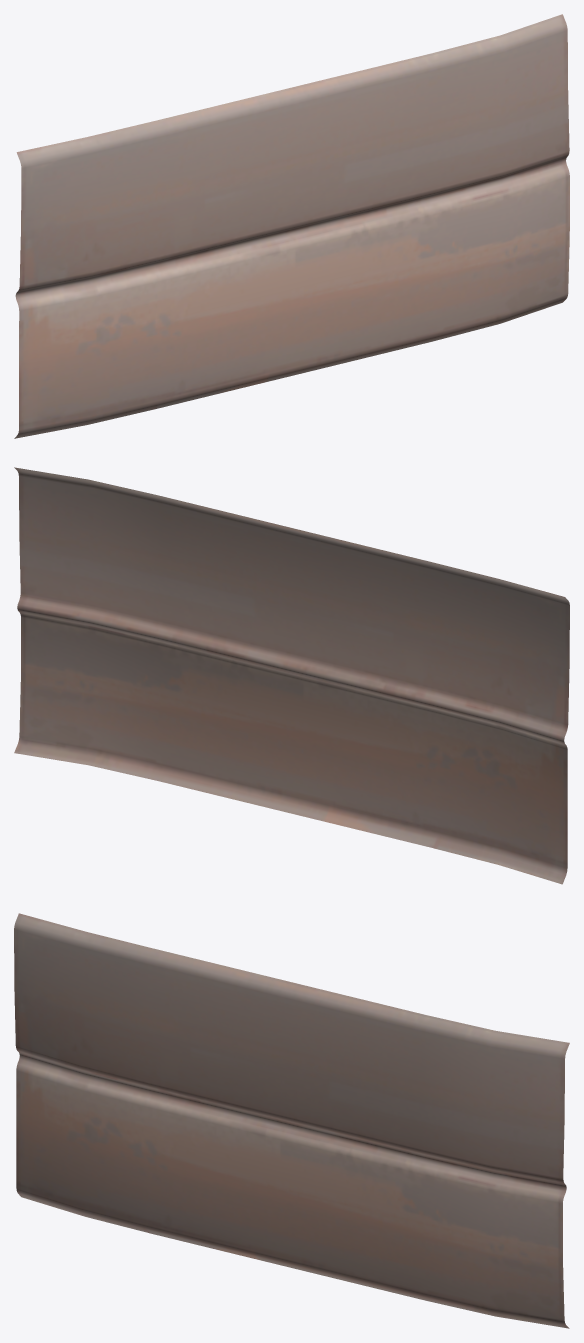
File: props_2fort_roof_metal002.glb
3 renders of one model, top to bottom at view 1: azimuth 30°, elevation 25°; view 2: azimuth 150°, elevation 25°; view 3: azimuth 330°, elevation 25°, orthographic.
Visible parts, largest first — view 1: models/props_2fort/roof_metal002; view 2: models/props_2fort/roof_metal002; view 3: models/props_2fort/roof_metal002.
Part boxes in pixels (x1=…): models/props_2fort/roof_metal002: x1=14, y1=14, x2=569, y2=438; models/props_2fort/roof_metal002: x1=14, y1=467, x2=569, y2=884; models/props_2fort/roof_metal002: x1=14, y1=913, x2=569, y2=1328.
Bounding box in the file's own units: 128 × 64 × 5.
1 material, 1 textured.
